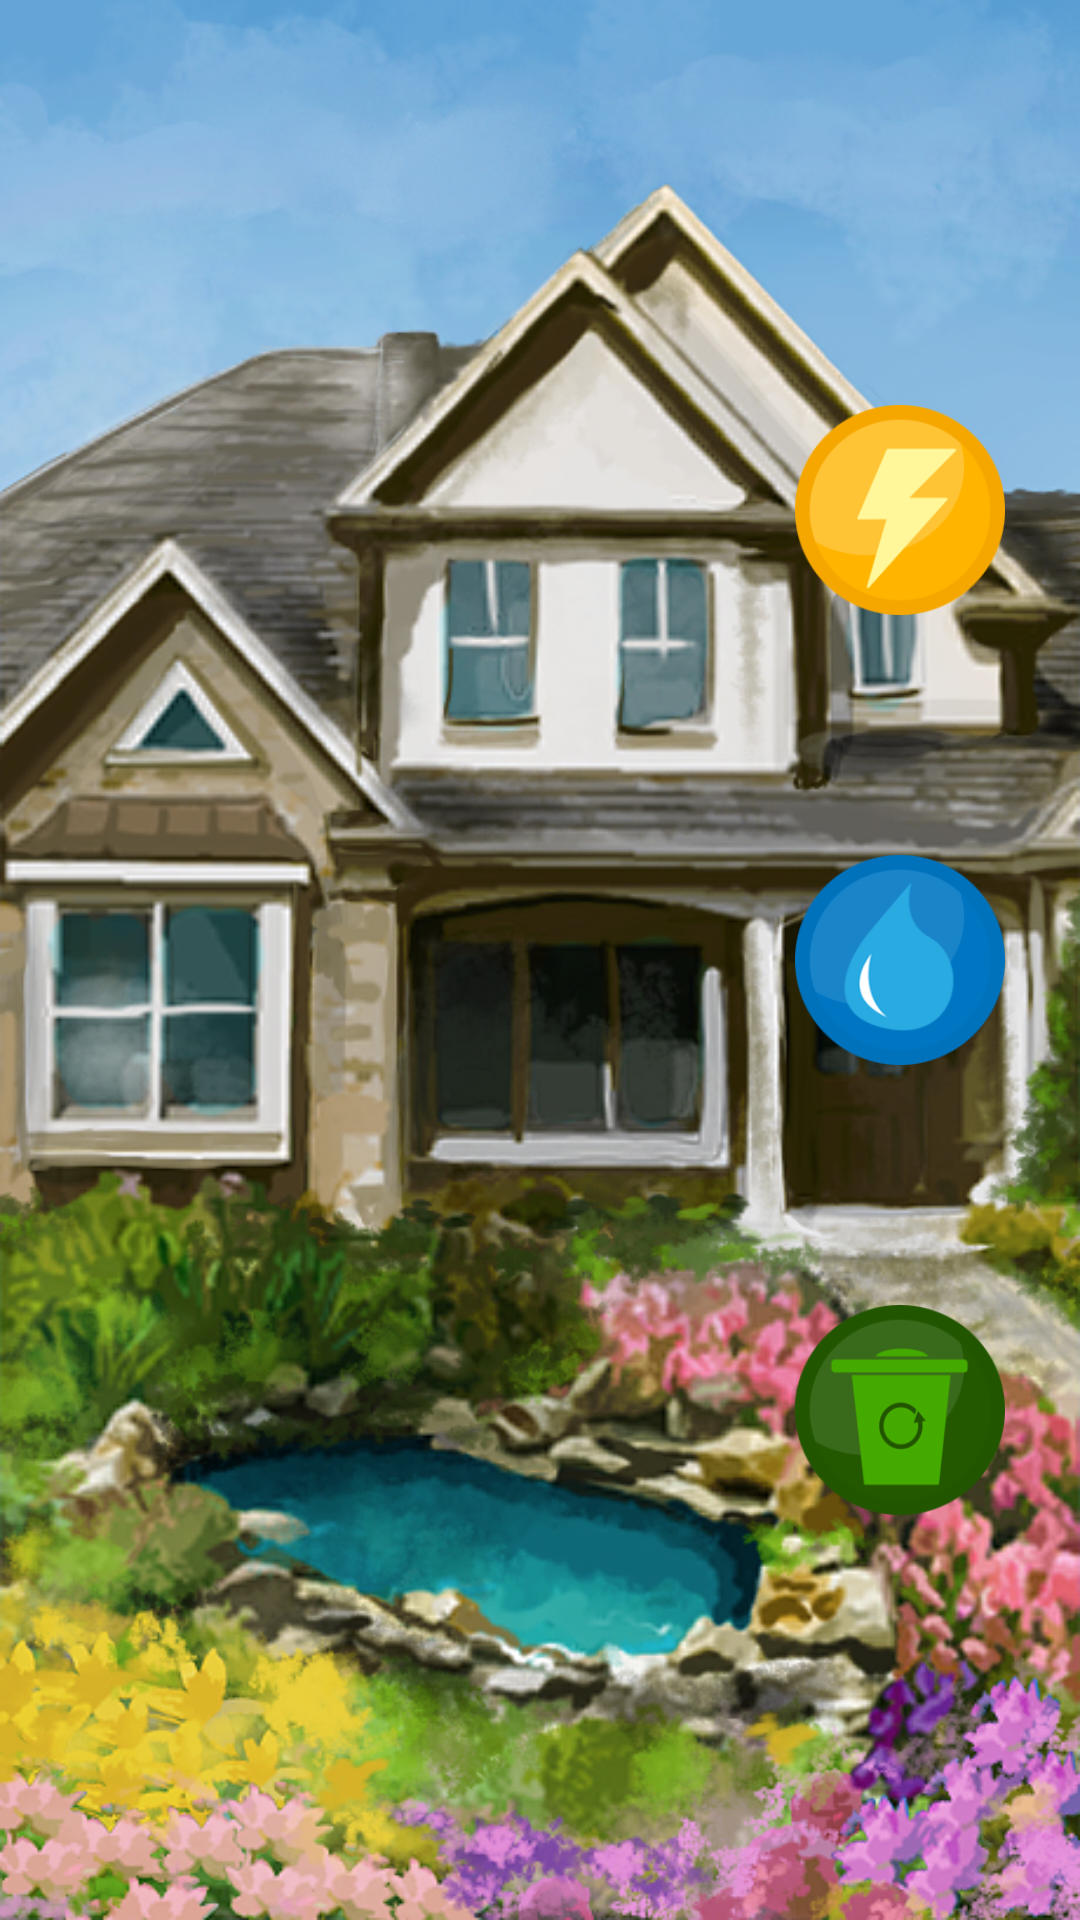

Screen size 1080 × 1920. Icon name, then its center in pixels as [x,y]:
prad: [900,510]
smieci: [900,1410]
woda: [900,960]
